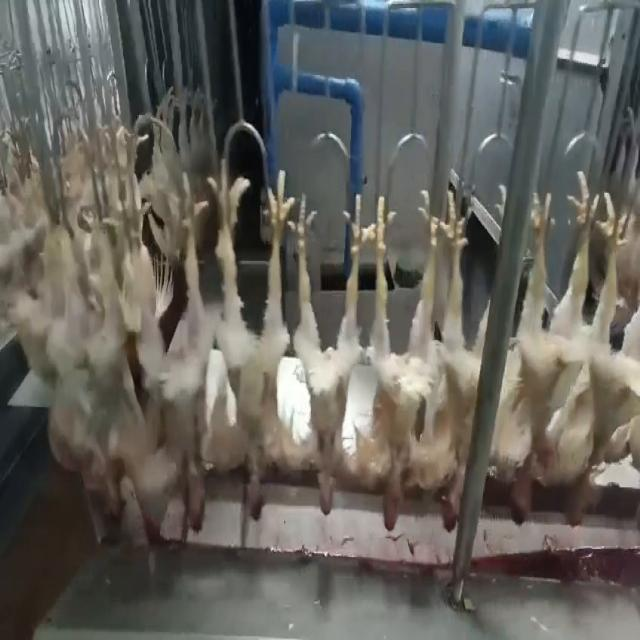chicken: (497, 167, 599, 531), (353, 180, 446, 529), (208, 167, 293, 523), (281, 190, 373, 518), (558, 183, 639, 529), (72, 172, 144, 527), (425, 183, 492, 538), (144, 169, 206, 538)
